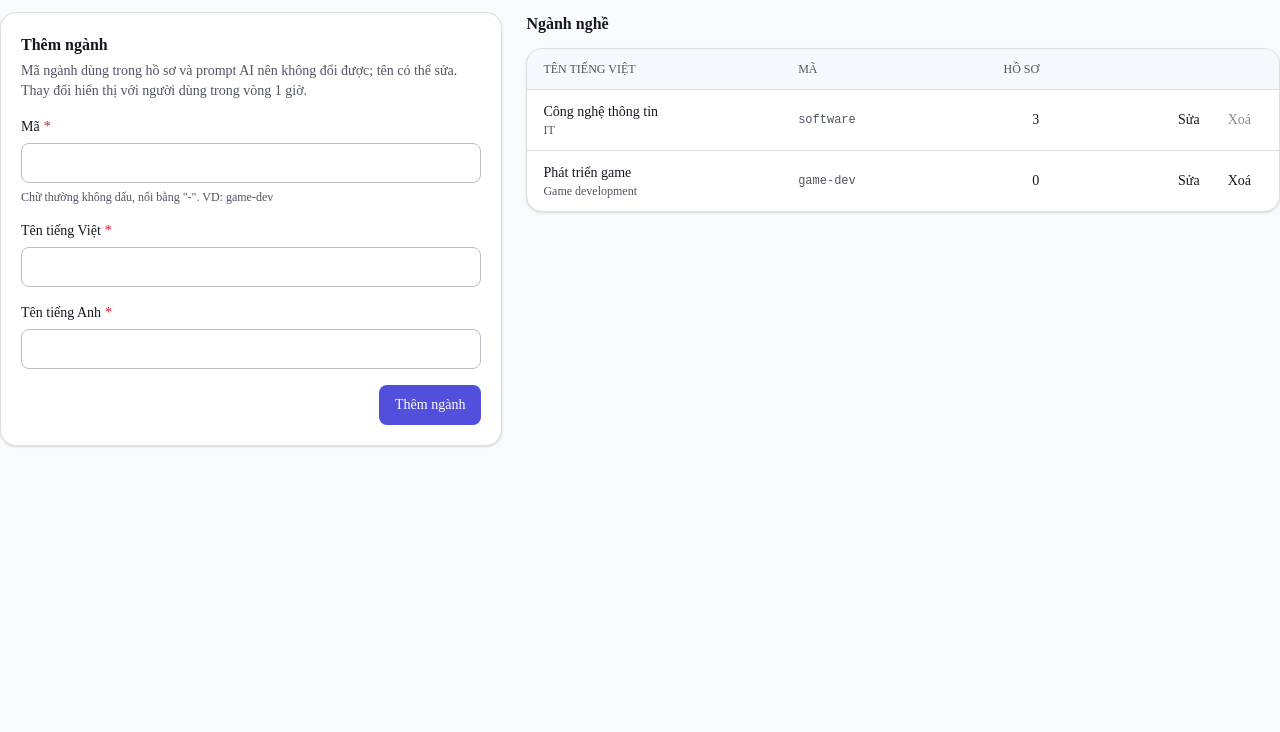
Test case: AdminIndustriesView › adds an industry with a normalised code
The width and height of the screenshot is (1280, 732).
In the field labelled "Mã *": (251, 163) [21, 143, 481, 183], type "Game-Dev"
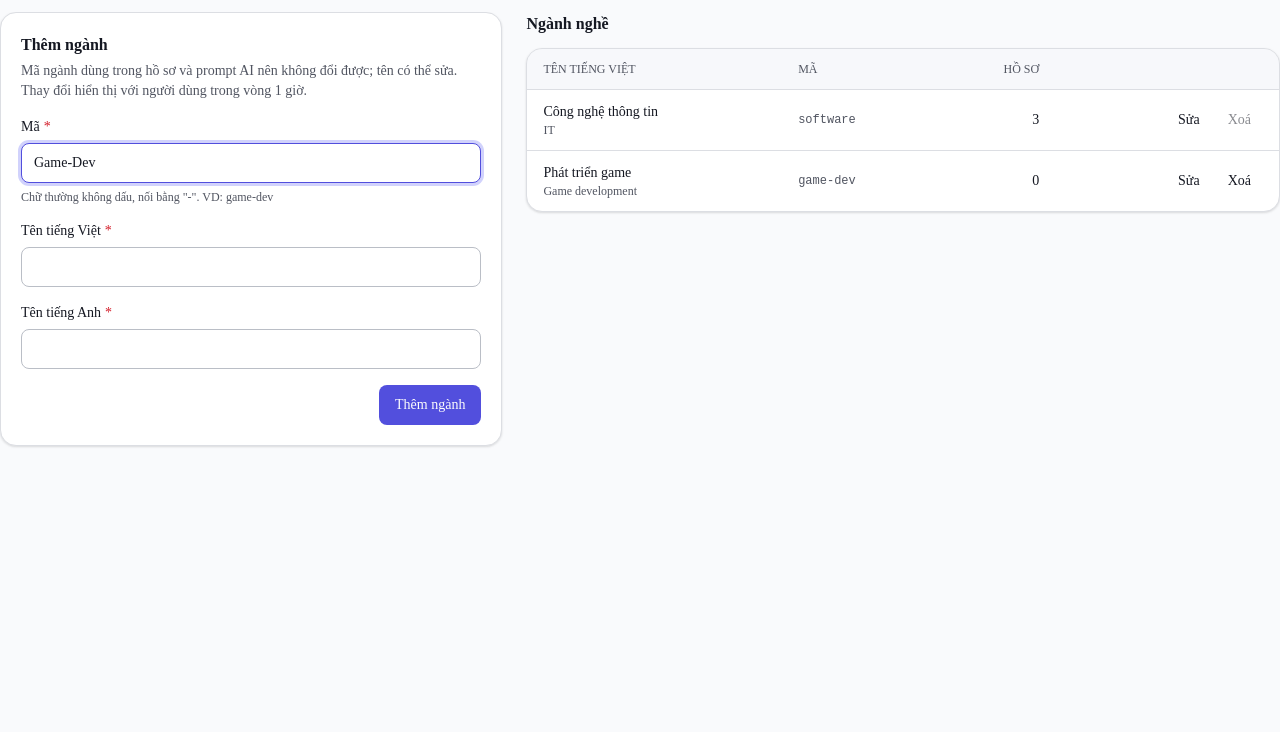
In the field labelled "Tên tiếng Việt *": (251, 267) [21, 247, 481, 287], type "Phát triển game"
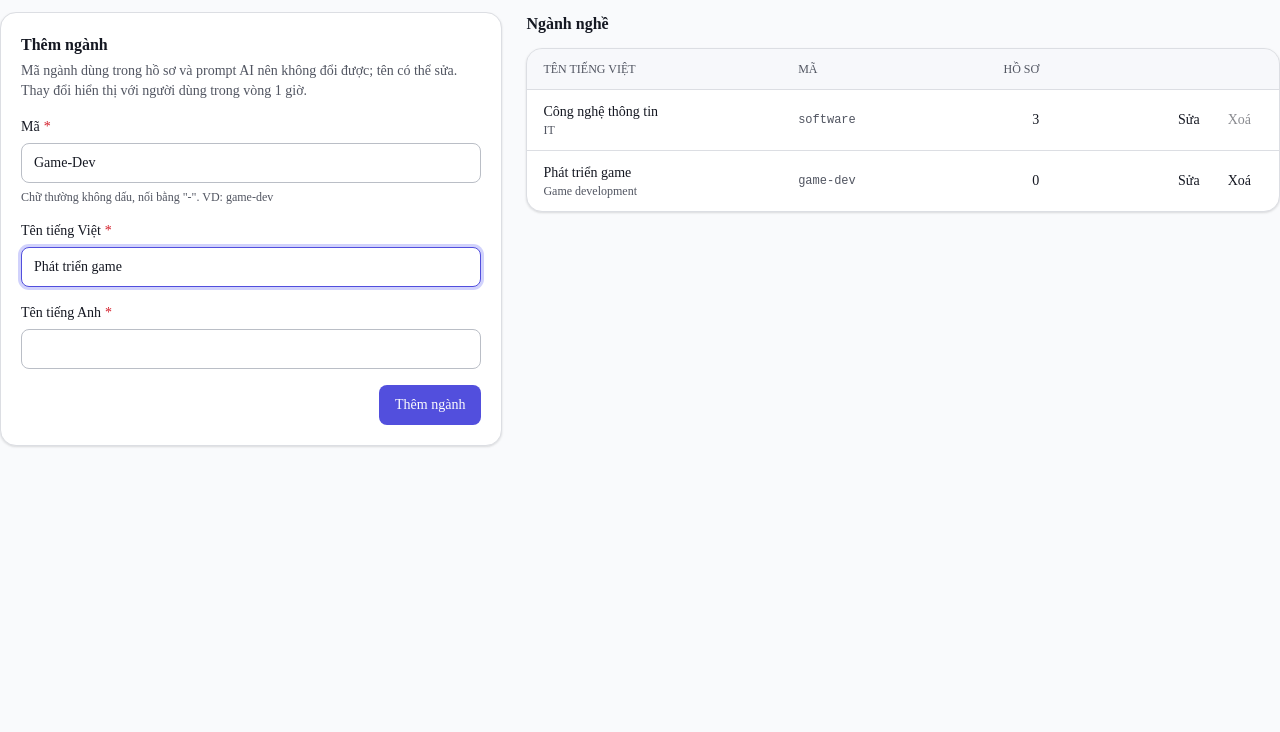
In the field labelled "Tên tiếng Anh *": (251, 349) [21, 329, 481, 369], type "Game development"
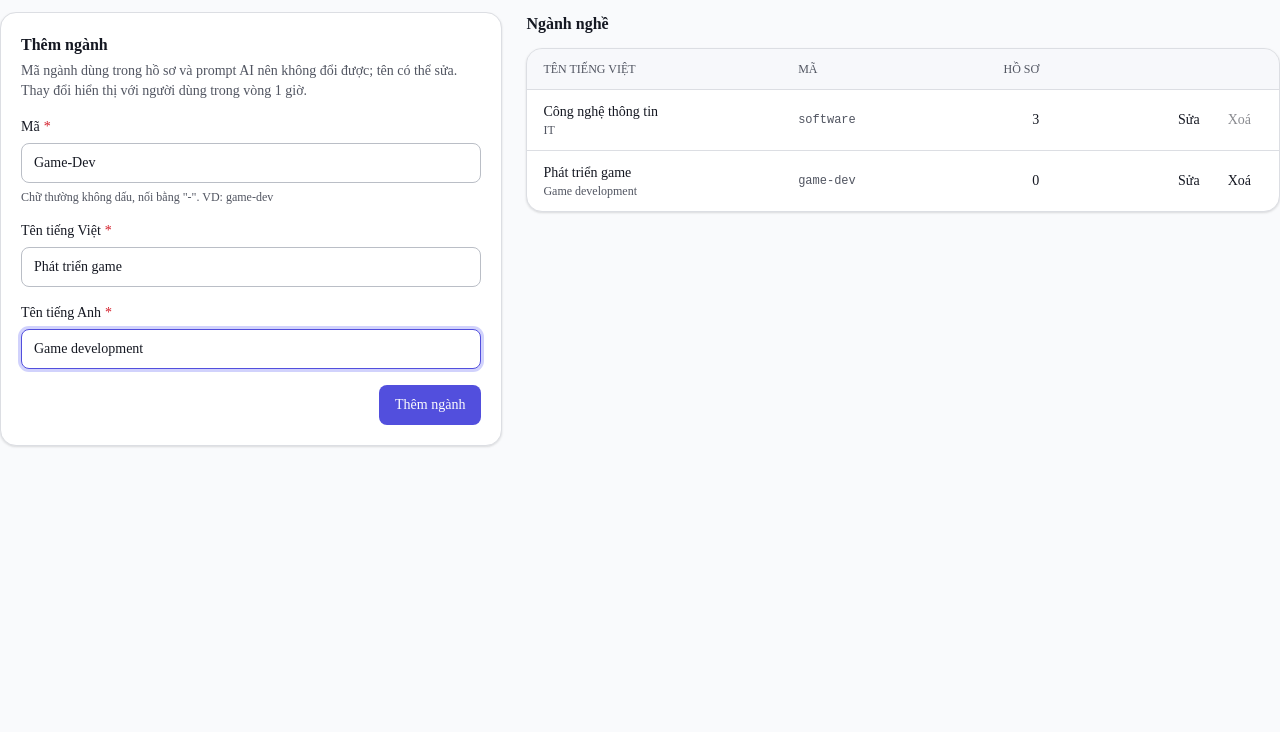
Click the button "Thêm ngành": (430, 405) [379, 385, 481, 425]
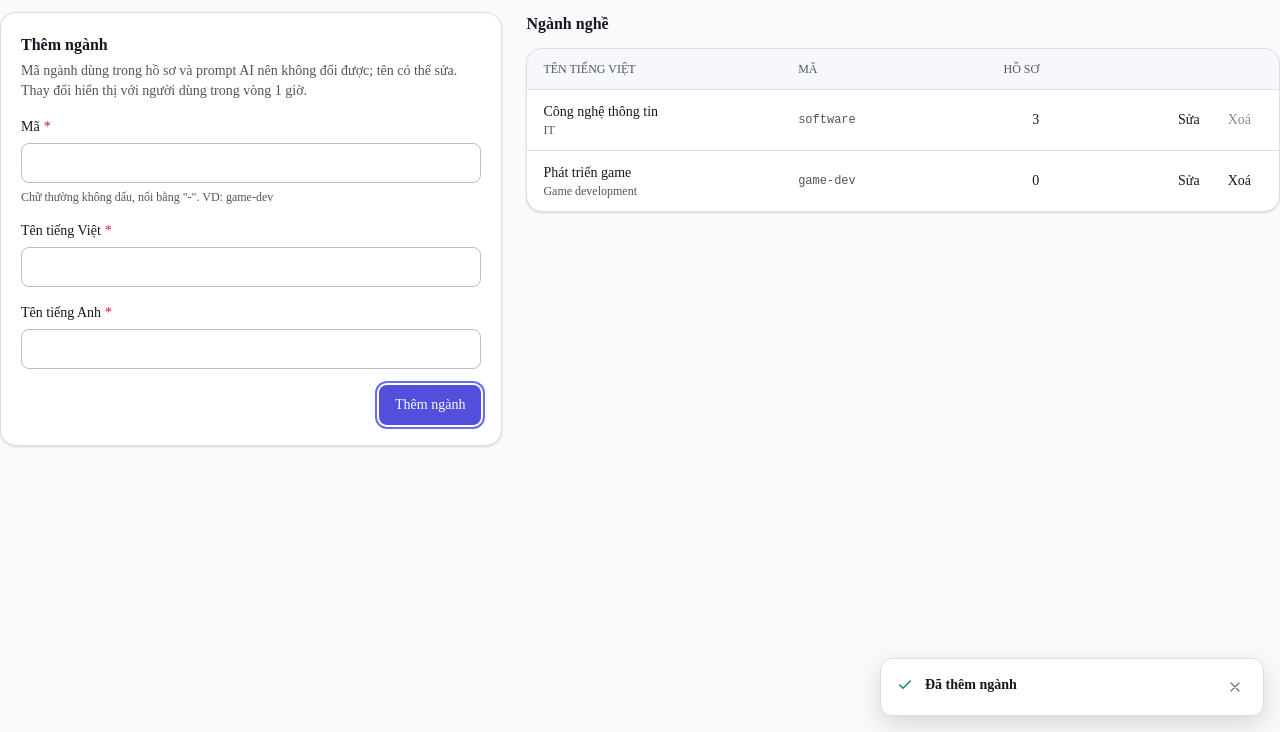
Expected: the text "Đã thêm ngành" is shown, [925, 677, 1017, 692]
